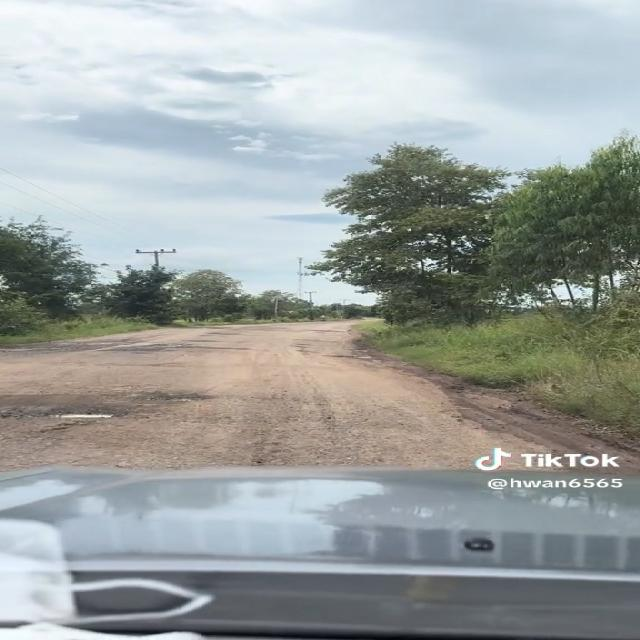Poth-hole: (243, 336, 319, 366)
